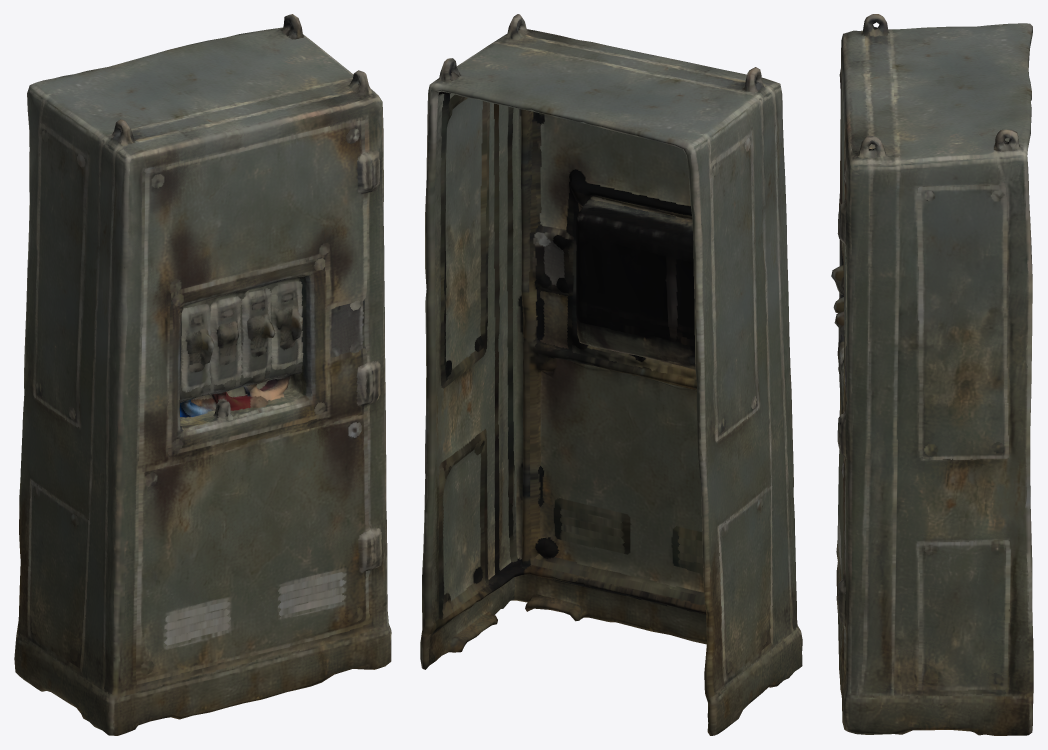
The model's file is bunker_switchgear_candidate.glb.
The picture shows the model from 3 angles, left to right: view 1: azimuth 30°, elevation 25°; view 2: azimuth 150°, elevation 25°; view 3: azimuth 270°, elevation 25°; orthographic projection.
Parts seen in each view (by area): view 1: bunker_switchgear_candidate; view 2: bunker_switchgear_candidate; view 3: bunker_switchgear_candidate.
Boxes of the visible parts, x1=… form: bunker_switchgear_candidate: x1=14, y1=14, x2=391, y2=735; bunker_switchgear_candidate: x1=420, y1=14, x2=802, y2=735; bunker_switchgear_candidate: x1=831, y1=14, x2=1033, y2=735.
Bounding box in the file's own units: 1.2 × 2.35 × 0.72.
Materials: 1 (1 with a texture image).
